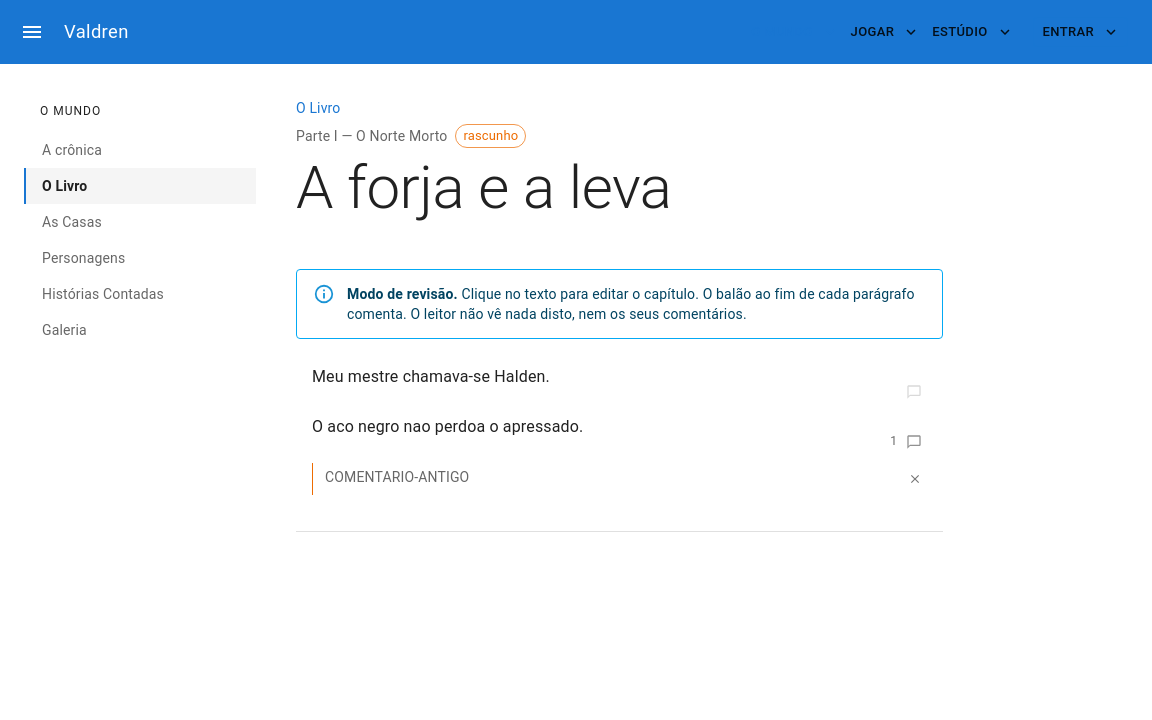
LivroCapituloPage para o Mestre › fecha o editor mesmo quando o texto não mudou
Click the element with test id "prosa-do-capitulo": (431, 377) x1=296 y1=363 x2=943 y2=507
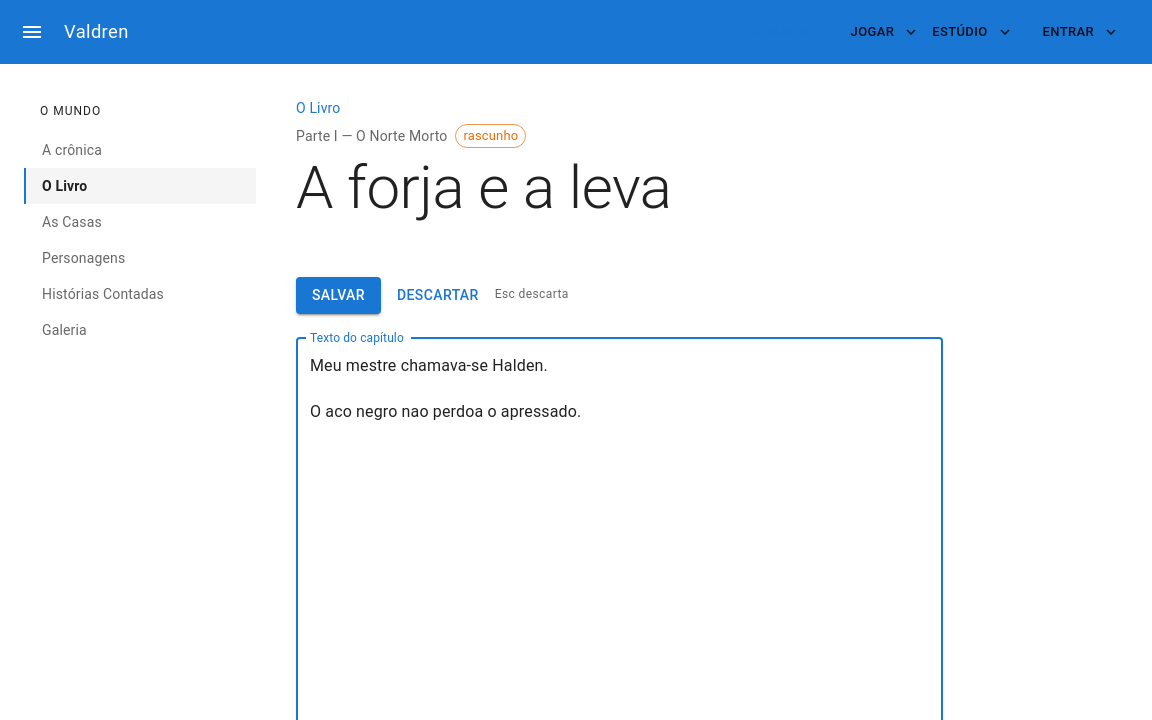
Click the button "Salvar": (338, 295) x1=296 y1=277 x2=381 y2=314
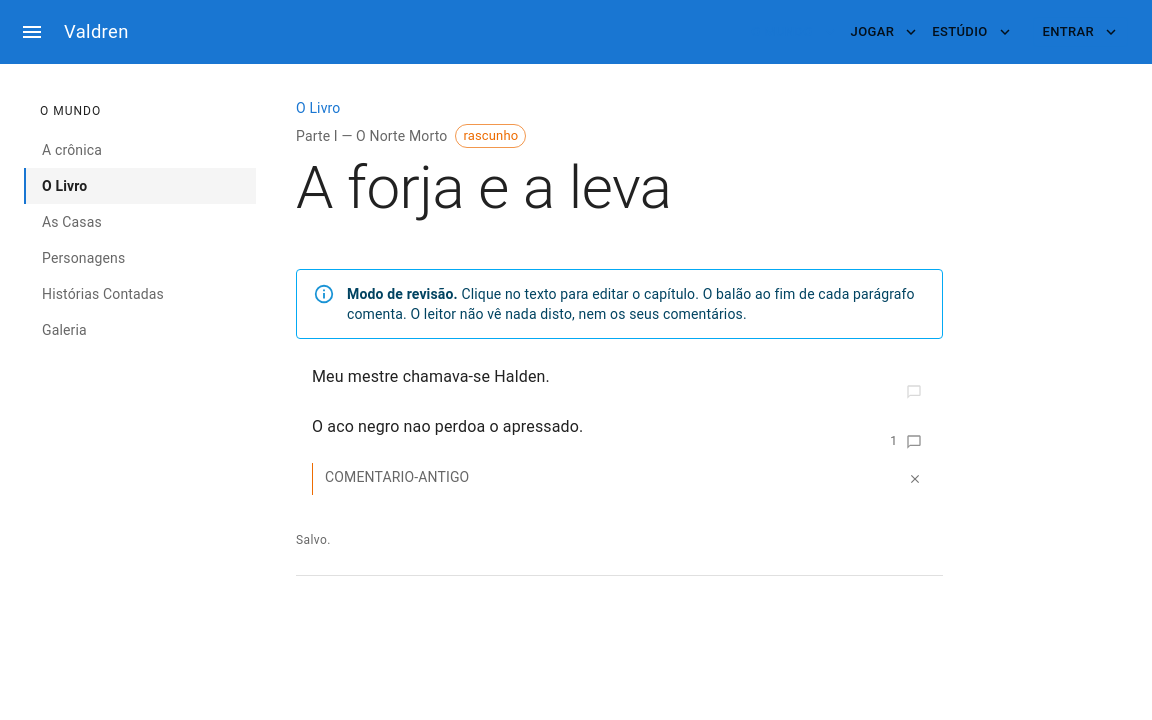
Result: the label labelled "Texto do capítulo" is gone
